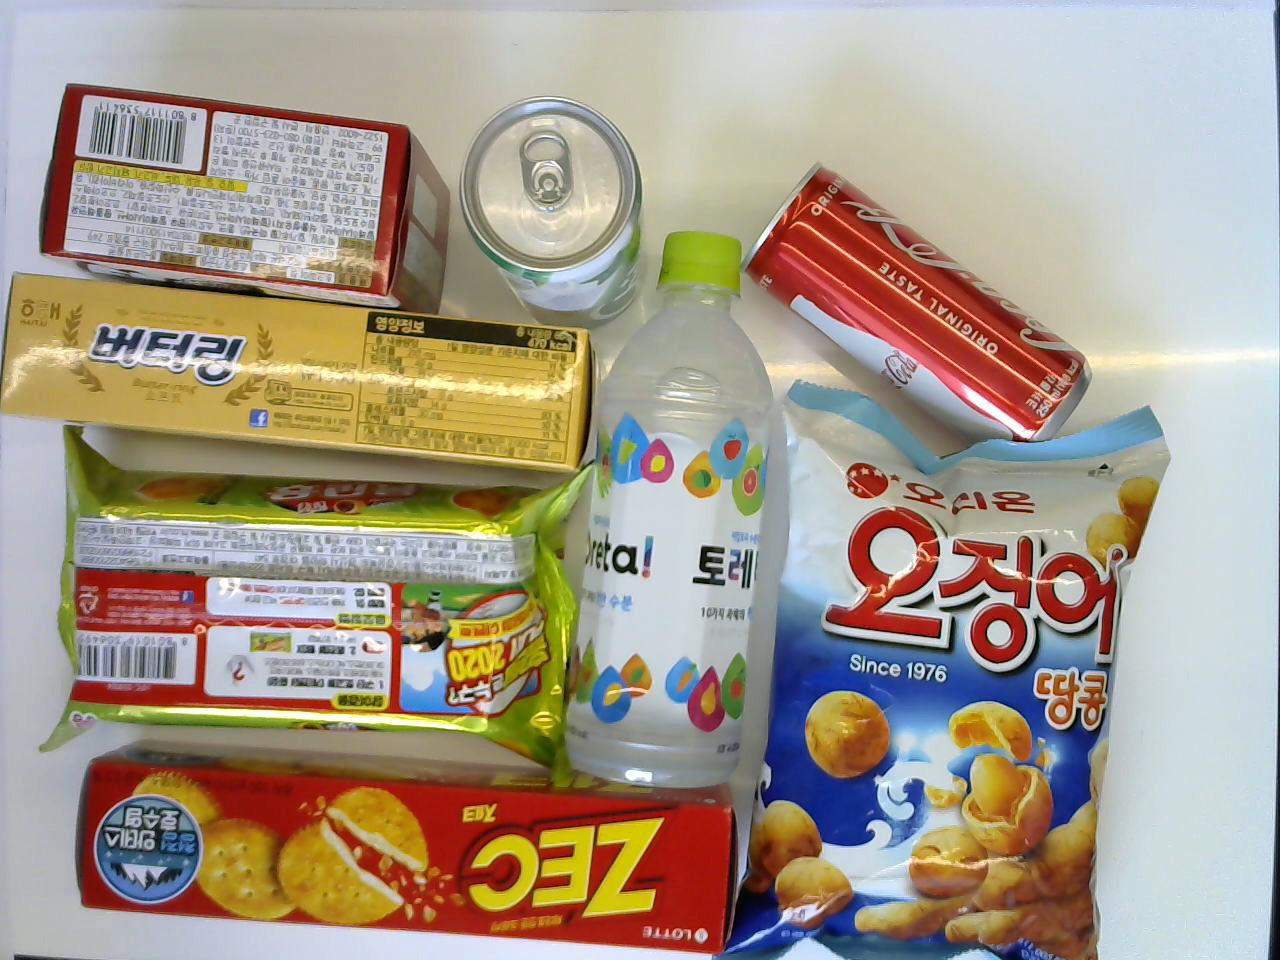buttering: (2, 269, 594, 472)
chocopie: (33, 81, 452, 326)
cidar: (457, 94, 649, 329)
coke: (738, 161, 1093, 447)
homerunball: (37, 414, 600, 769)
squid_peanut: (722, 379, 1171, 959)
toreta: (561, 230, 775, 787)
zec: (75, 740, 742, 951)
